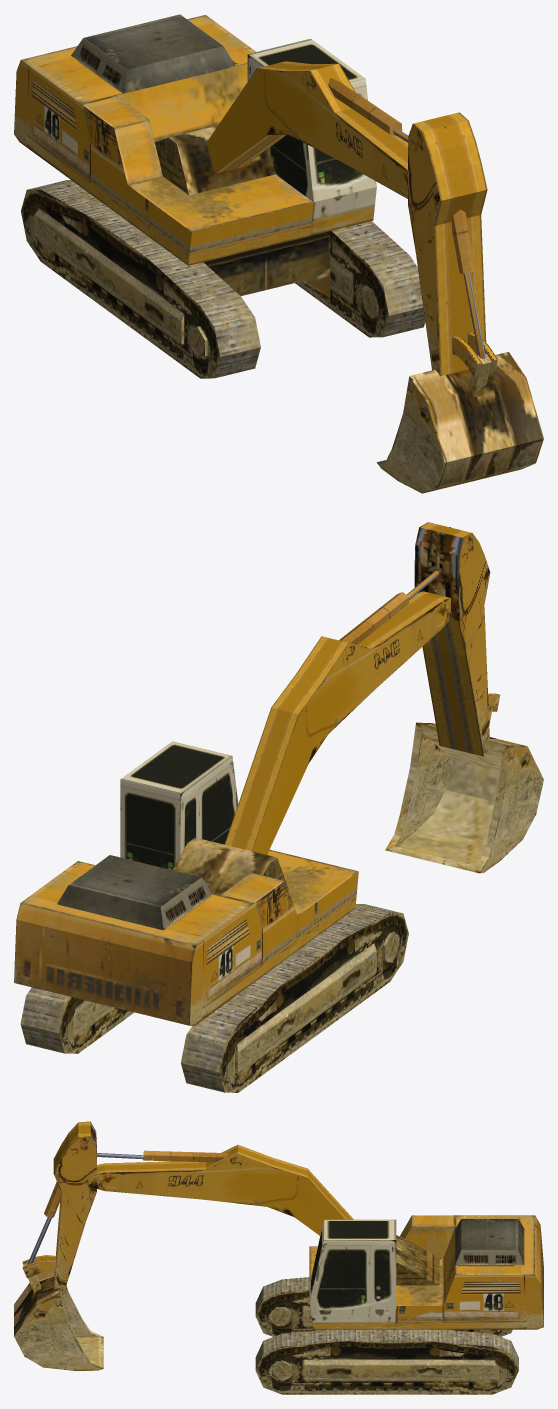
Rendered from Excavator01.obj.
3 views of the same model, one above another, from view 1: azimuth 30°, elevation 25°; view 2: azimuth 150°, elevation 25°; view 3: azimuth 270°, elevation 25° (orthographic). The views are drawn at different scales.
Visible parts, largest first — view 1: Excavator01-CabinEngine, Excavator01-Chassis, Excavator01-Shovel, Excavator01-ArmLower, Excavator01-ArmUpper, Excavator01-HydraulicsUpper, Excavator01-HydraulicsUpper.001; view 2: Excavator01-CabinEngine, Excavator01-Chassis, Excavator01-ArmUpper, Excavator01-Shovel, Excavator01-ArmLower, Excavator01-HydraulicsUpper.001; view 3: Excavator01-CabinEngine, Excavator01-Chassis, Excavator01-ArmUpper, Excavator01-Shovel, Excavator01-ArmLower, Excavator01-HydraulicsUpper.001, Excavator01-HydraulicsUpper.
Part boxes in pixels (x1,y1,x2,y2): Excavator01-CabinEngine: [14, 14, 376, 265]; Excavator01-Chassis: [21, 180, 425, 378]; Excavator01-Shovel: [377, 332, 543, 493]; Excavator01-ArmLower: [408, 112, 487, 376]; Excavator01-ArmUpper: [207, 61, 408, 198]; Excavator01-HydraulicsUpper: [444, 126, 485, 359]; Excavator01-HydraulicsUpper.001: [328, 77, 408, 142]; Excavator01-CabinEngine: [14, 741, 358, 1025]; Excavator01-Chassis: [20, 904, 408, 1092]; Excavator01-ArmUpper: [224, 591, 450, 854]; Excavator01-Shovel: [385, 693, 543, 873]; Excavator01-ArmLower: [414, 522, 490, 756]; Excavator01-HydraulicsUpper.001: [339, 570, 439, 644]; Excavator01-CabinEngine: [309, 1215, 543, 1329]; Excavator01-Chassis: [255, 1277, 518, 1394]; Excavator01-ArmUpper: [97, 1145, 353, 1235]; Excavator01-Shovel: [14, 1255, 103, 1370]; Excavator01-ArmLower: [53, 1121, 96, 1298]; Excavator01-HydraulicsUpper.001: [97, 1150, 229, 1162]; Excavator01-HydraulicsUpper: [27, 1130, 77, 1264].
Bounding box in the file's own units: 3.78 × 5.78 × 12.22.
